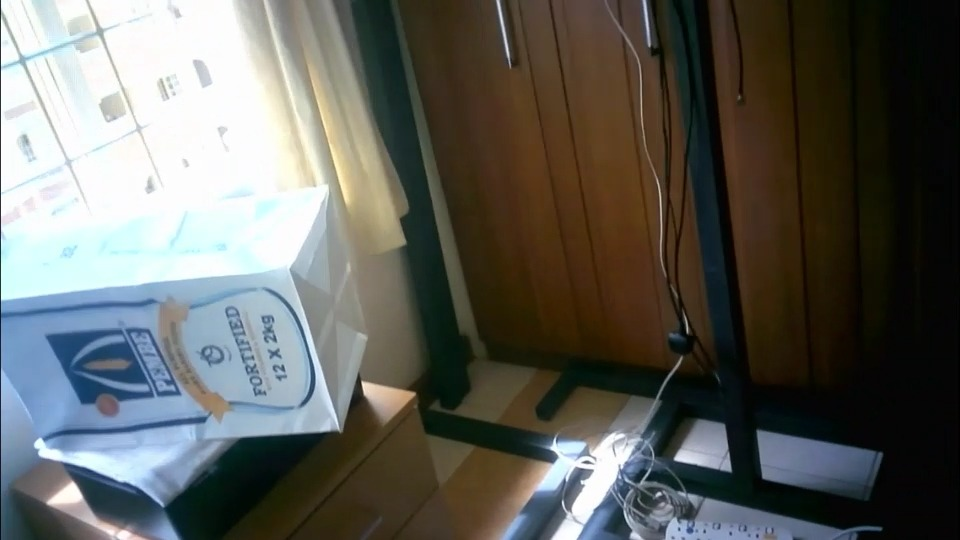wheat_flour_blue_label: (0, 186, 368, 439)
